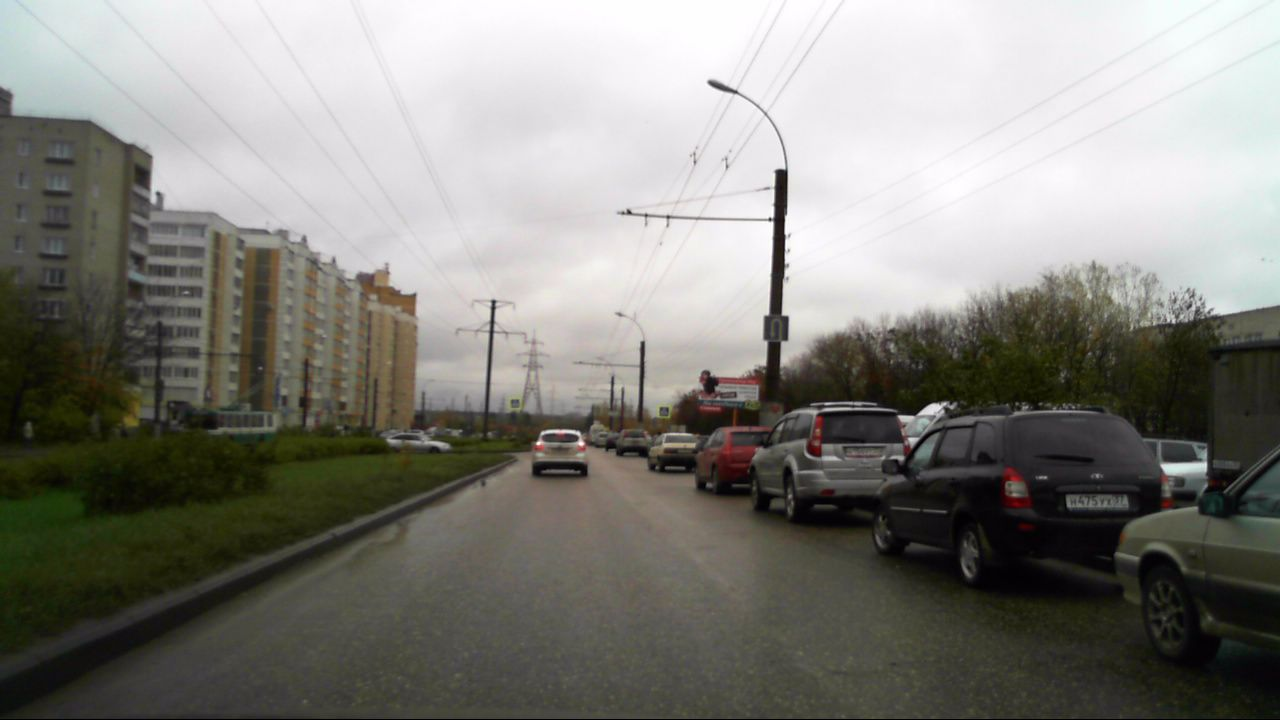U-turn: (764, 316, 788, 341)
